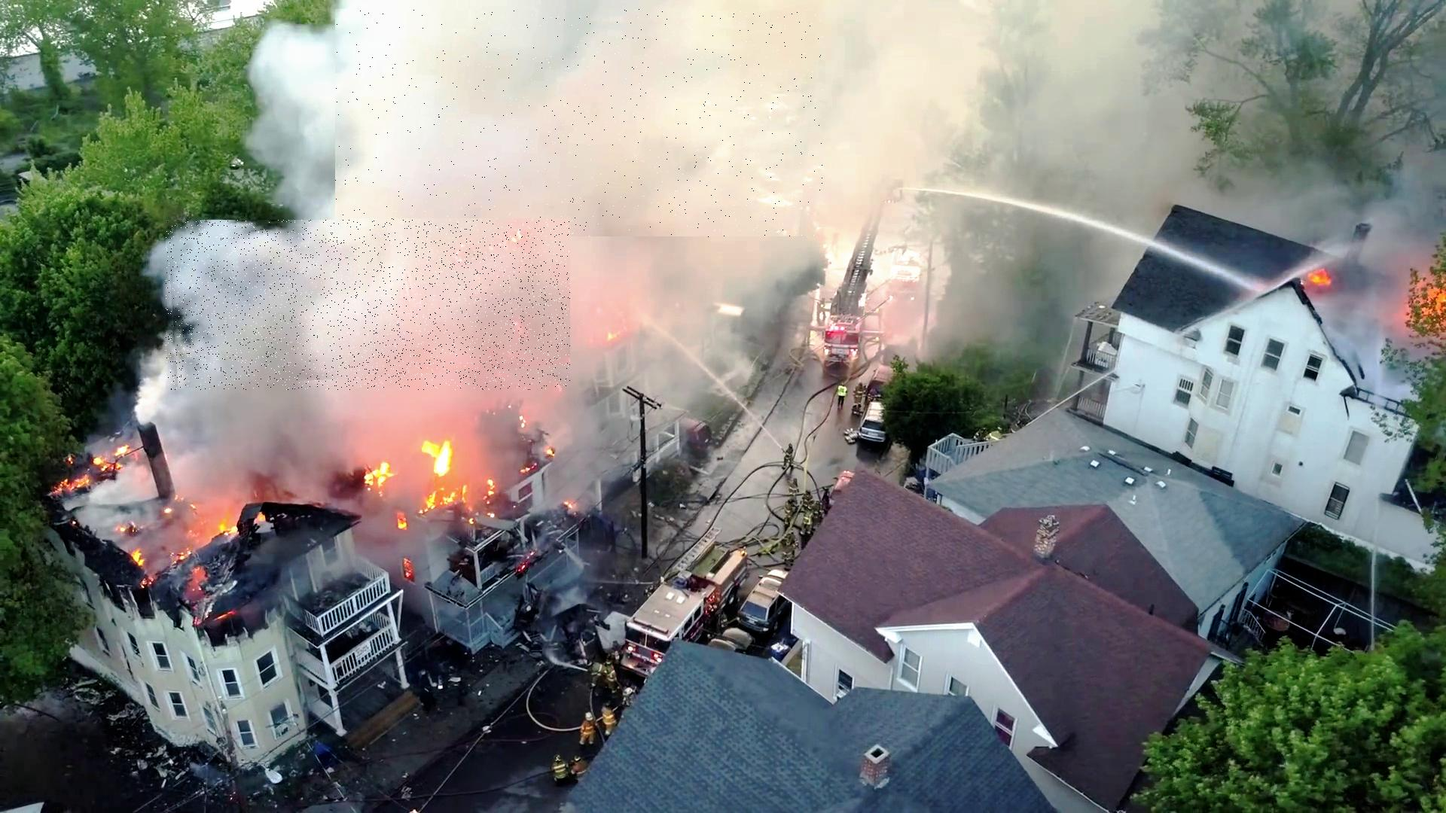smoke: (336, 10, 823, 238), (166, 220, 570, 390)
